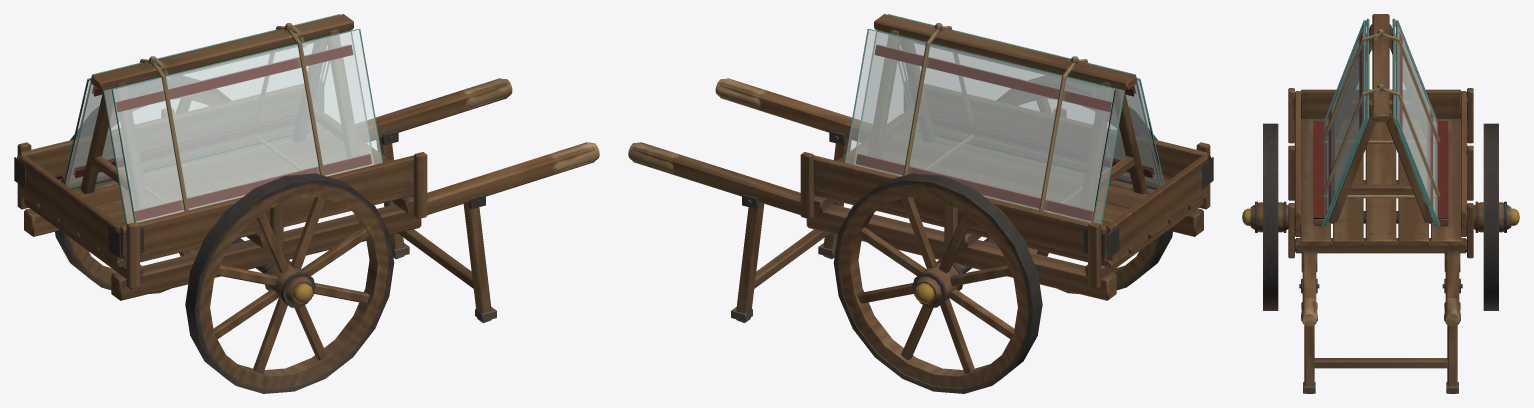
The model's file is glass-cart.glb.
3 renders of one model, left to right at view 1: azimuth 30°, elevation 25°; view 2: azimuth 150°, elevation 25°; view 3: azimuth 270°, elevation 25°, orthographic. The views are drawn at different scales.
Parts seen in each view (by area): view 1: glass-cart; view 2: glass-cart; view 3: glass-cart.
Part boxes in pixels (box(x1,y1,x2,y2)): glass-cart: box(14, 14, 599, 393); glass-cart: box(628, 14, 1213, 393); glass-cart: box(1242, 14, 1519, 393).
Bounding box in the file's own units: 1.61 × 0.9572 × 0.9701.
Materials: 2 (1 with a texture image).
